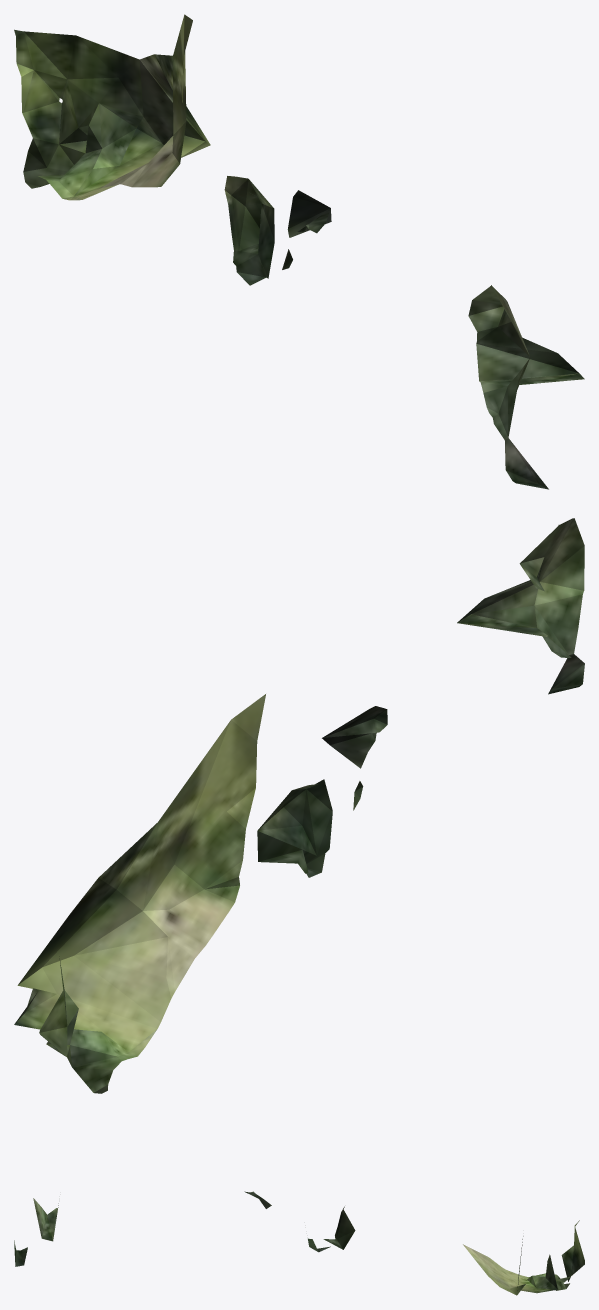
The picture shows the model from 3 angles, top to bottom: view 1: azimuth 30°, elevation 25°; view 2: azimuth 150°, elevation 25°; view 3: azimuth 270°, elevation 25°; orthographic projection. The views are drawn at different scales.
Size of the model in its own units: 14.37 by 29.92 by 94.64.
Materials: 1 (1 with a texture image).
